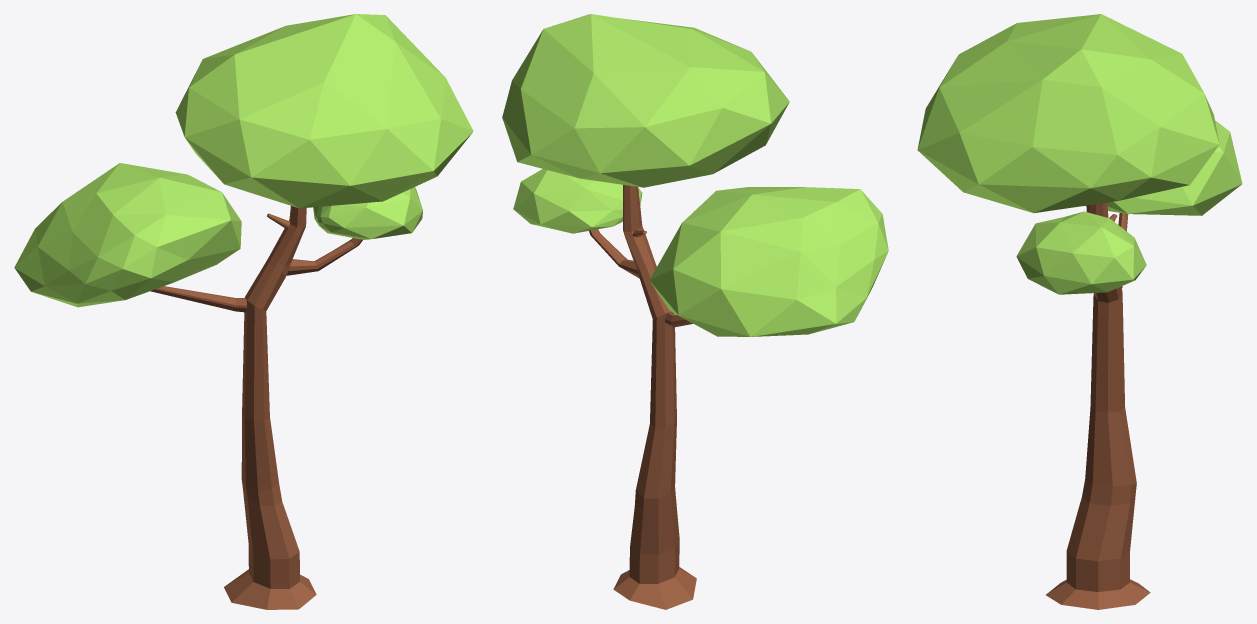
File: Generic_Tree2.fbx
3 views of the same model, side by side, from view 1: azimuth 30°, elevation 25°; view 2: azimuth 150°, elevation 25°; view 3: azimuth 270°, elevation 25° (orthographic). The views are drawn at different scales.
Visible parts, largest first — view 1: Icosphere.001; view 2: Icosphere.001; view 3: Icosphere.001.
Part boxes in pixels (box(x1,y1,x2,y2)): Icosphere.001: box(14, 14, 473, 609); Icosphere.001: box(502, 14, 888, 609); Icosphere.001: box(917, 14, 1242, 609).
Bounding box in the file's own units: 3.99 × 5.82 × 2.92.
